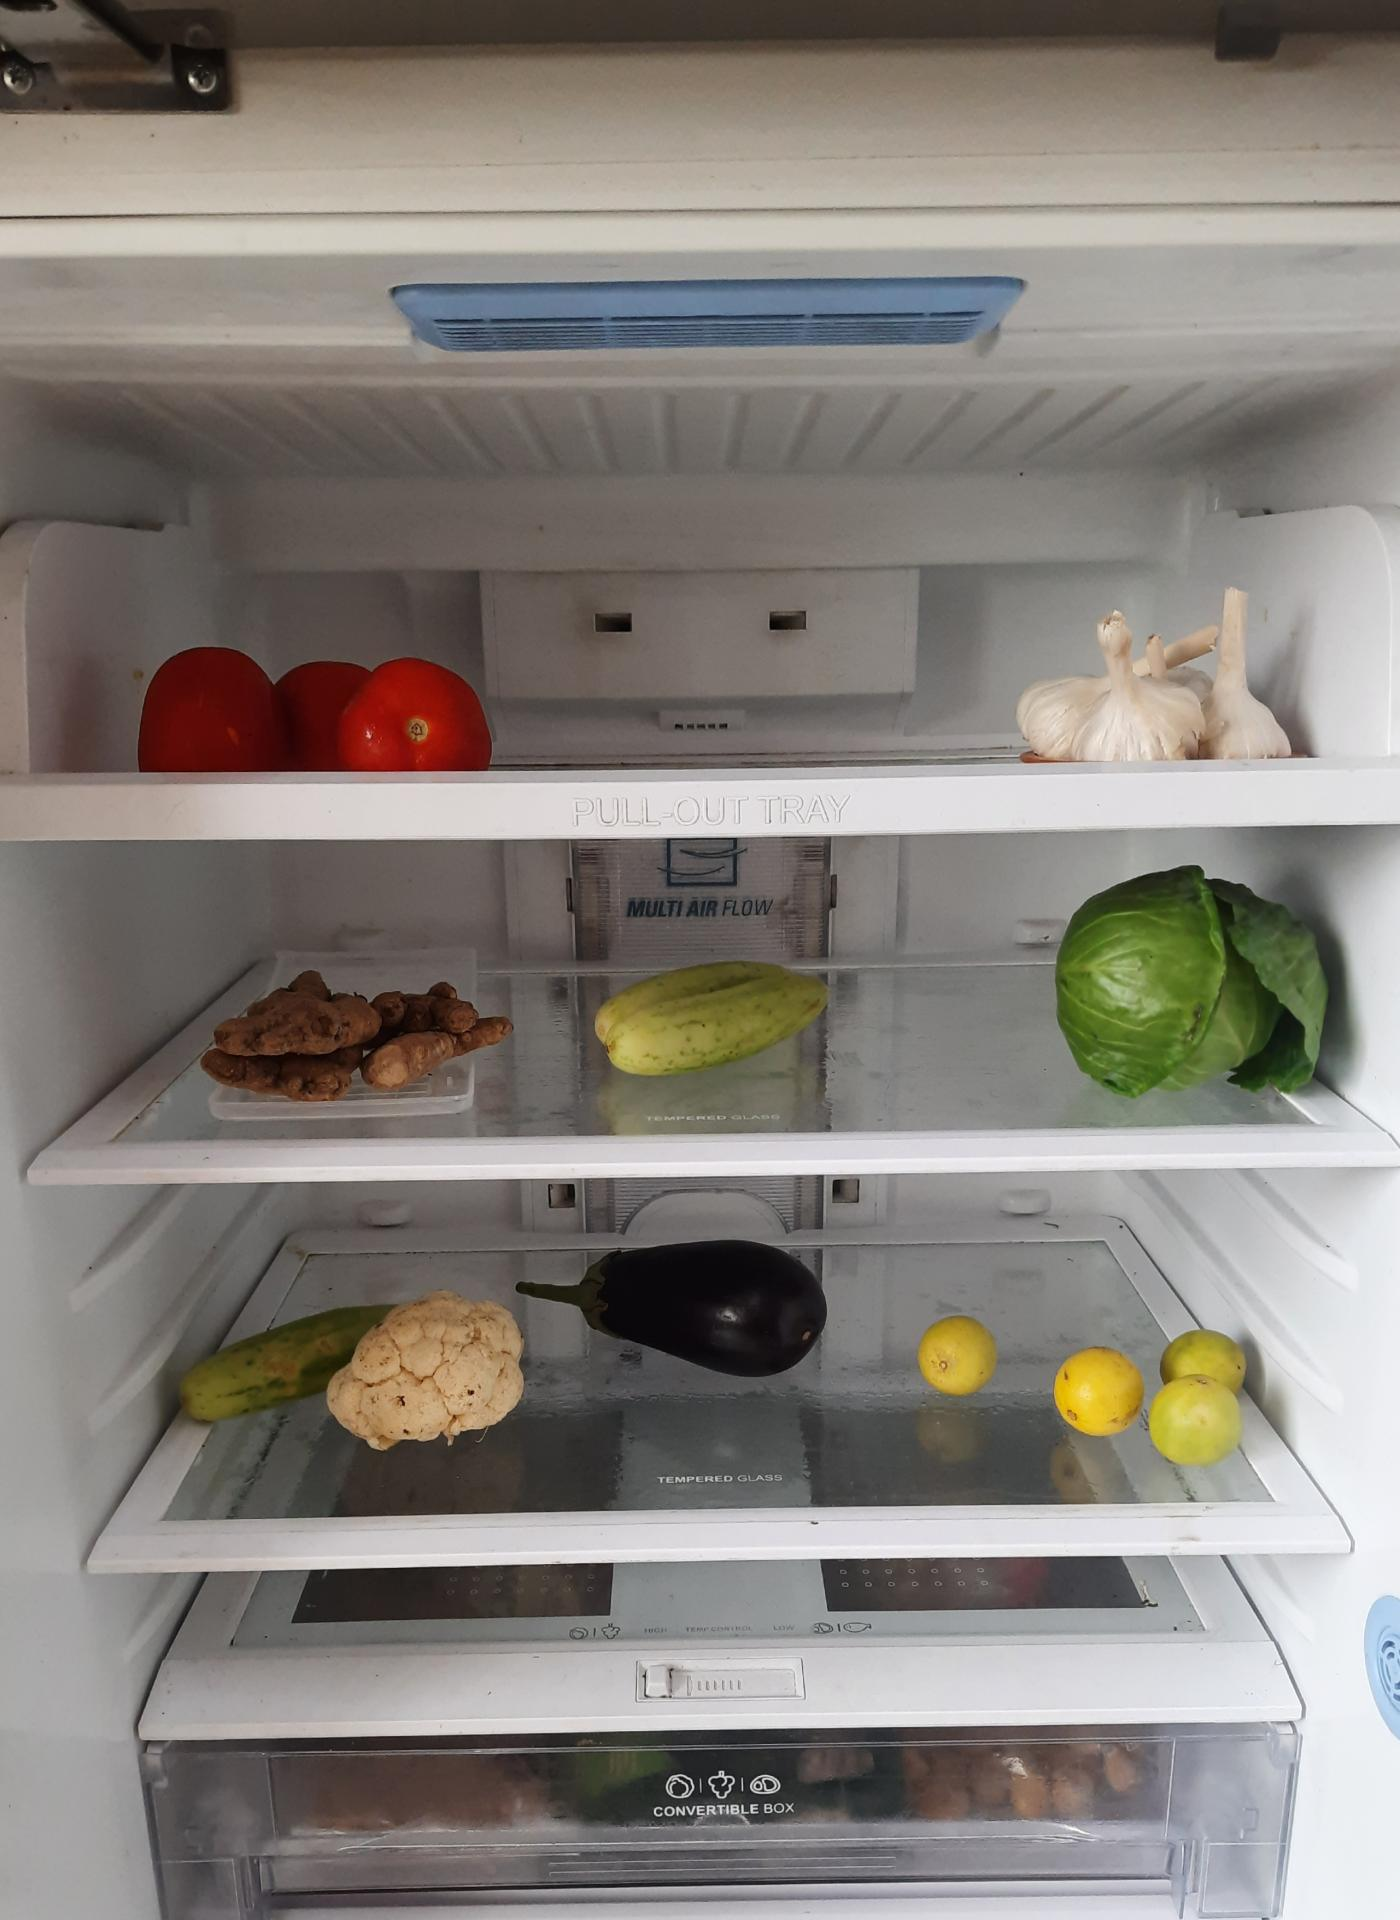brinjal: (528, 1240, 823, 1380)
cabbage: (1050, 865, 1336, 1109)
cauliflower: (319, 1291, 529, 1464)
cucumber: (174, 1292, 404, 1421), (592, 959, 832, 1081)
garlic: (1014, 595, 1297, 778)
ginger: (192, 967, 519, 1103)
lemon: (1057, 1327, 1251, 1477), (912, 1310, 1000, 1403)
tomato: (139, 637, 488, 763)
